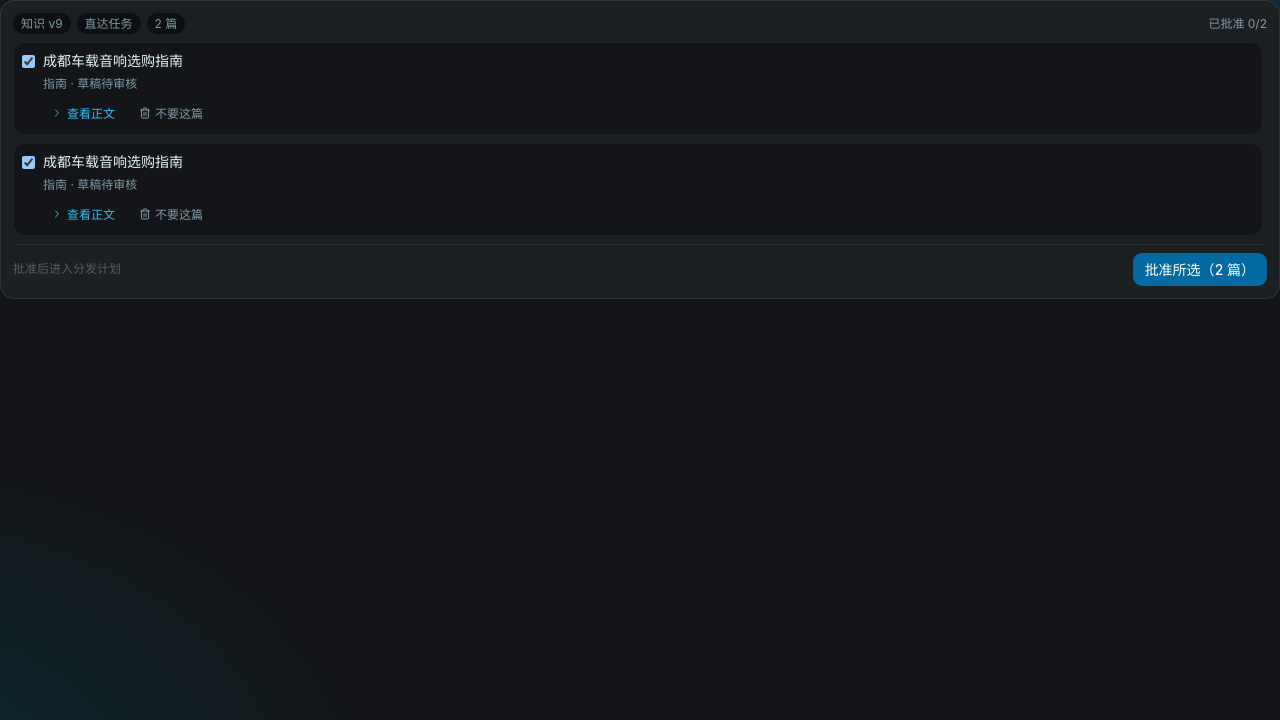
Scenario: ArticleApprovalGateCard › keeps going after a per-article failure and lists the failed draft
The width and height of the screenshot is (1280, 720).
What coordinates should you click on to do the following:
click the button "批准所选（2 篇）"
I would click on:
 (1200, 270)
Its box is [1133,253,1267,286].
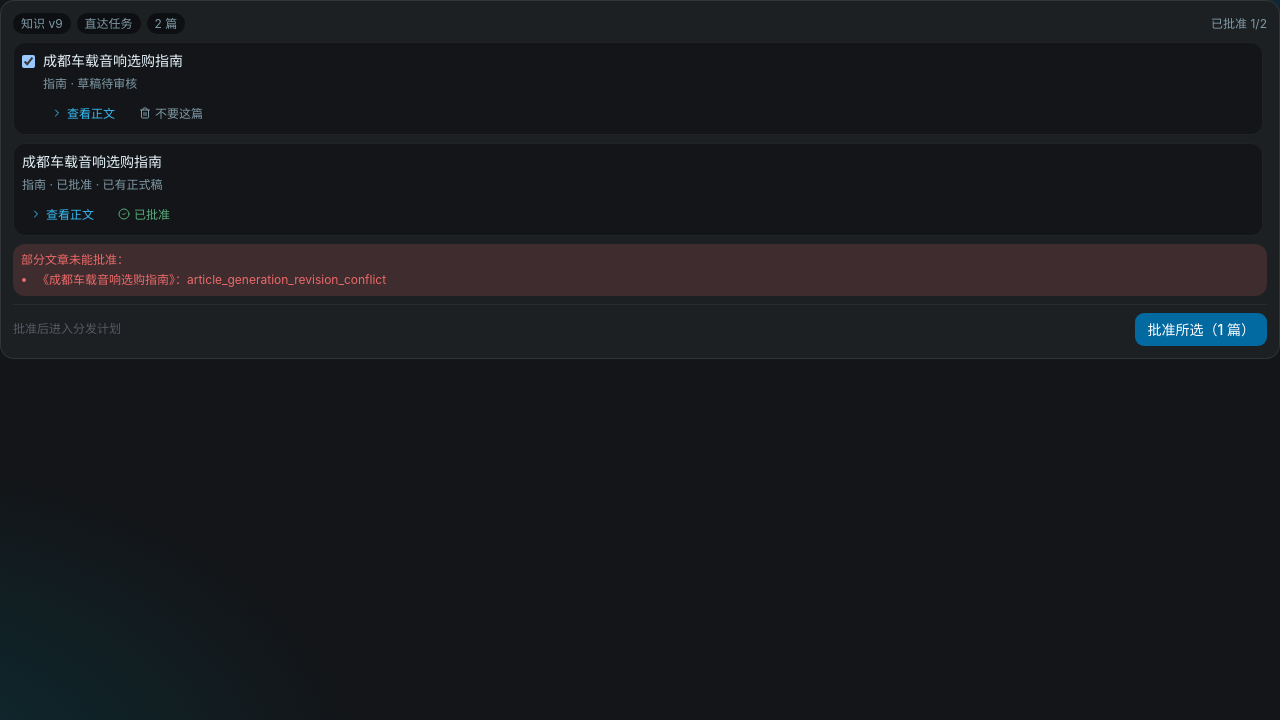
Now the text "部分文章未能批准：" is shown, box [21,252,129,267]
Now the list item "《成都车载音响选购指南》：article_generation_revision_conflict" is shown, box [37,272,386,287]
Now the text "已批准 1/2" is shown, box [1211,15,1267,32]
